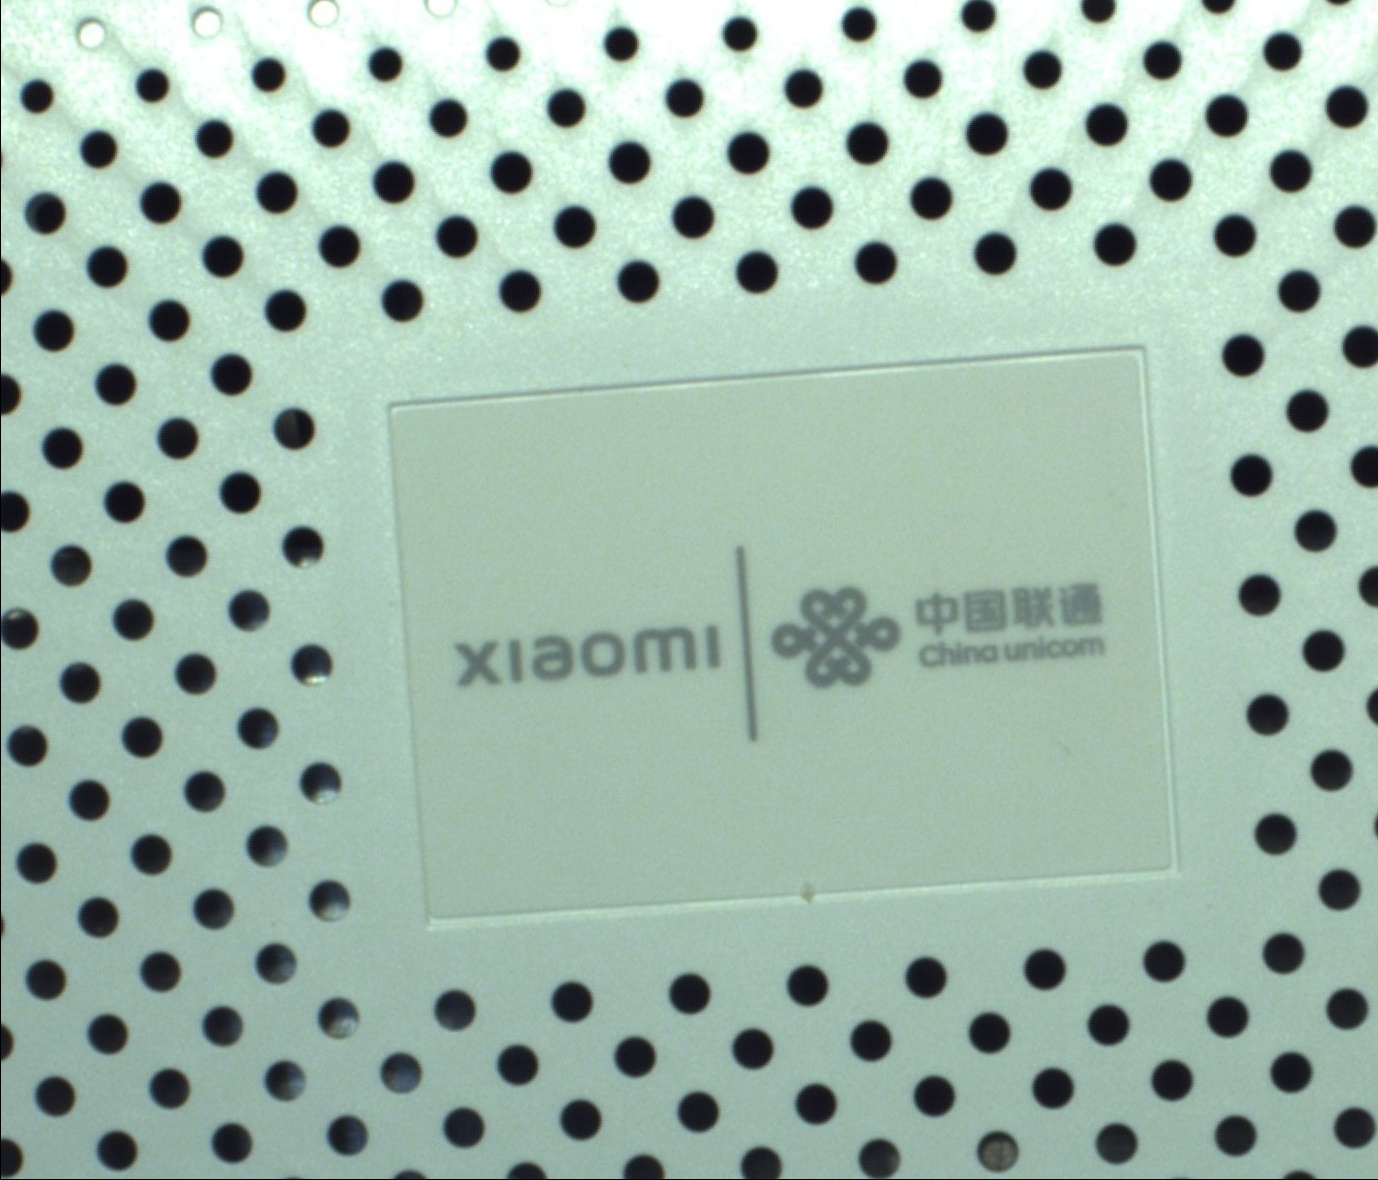MAC_NewUnicom: (433, 531, 1115, 743)
